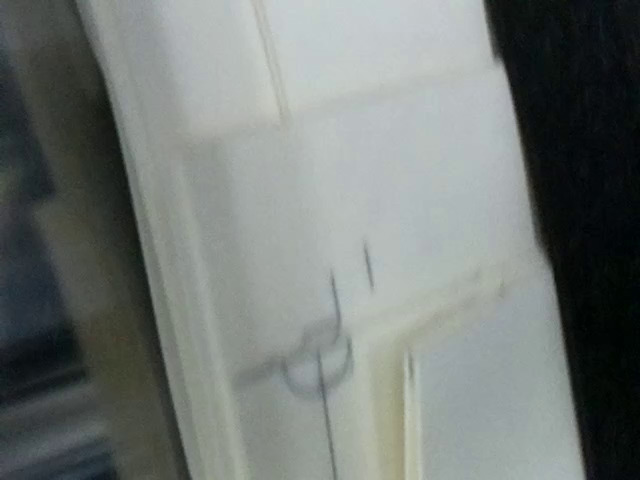not_sure: (236, 273, 367, 409)
